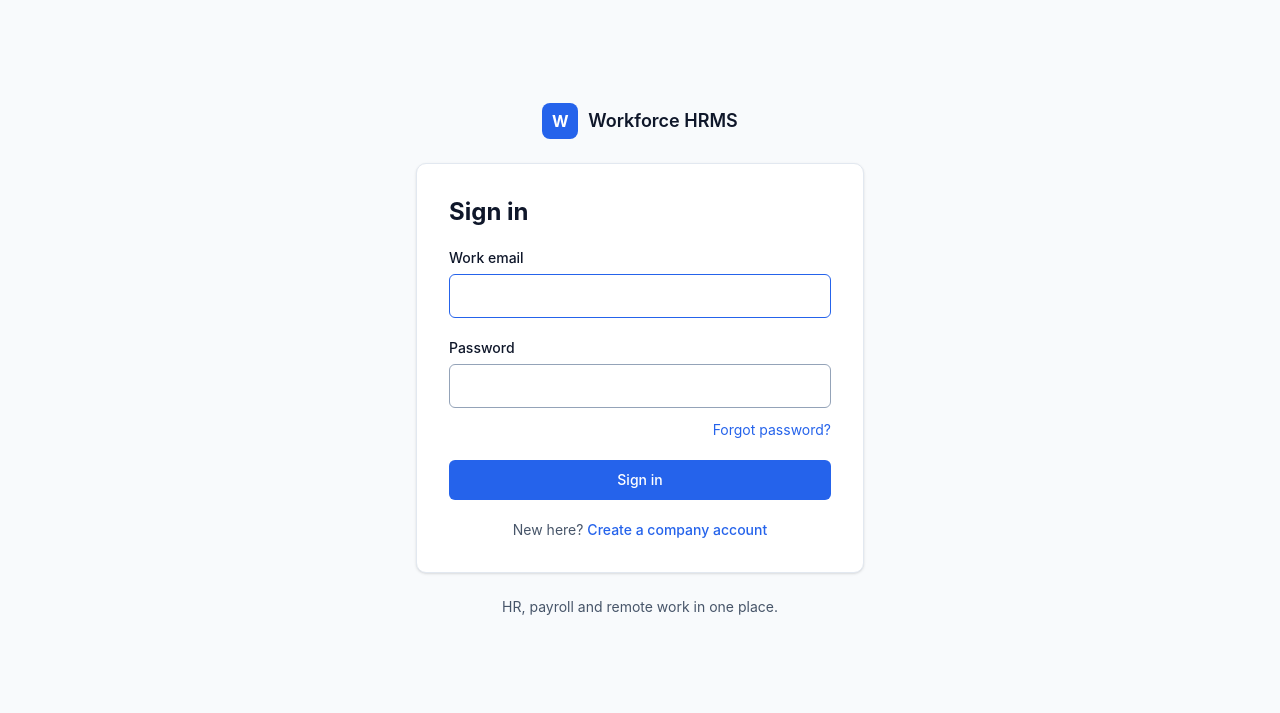
Test: MFA step, then the app with the MFA-required banner
In the field labelled "Work email": {"x": 640, "y": 296} x1=449 y1=274 x2=831 y2=318, type "priya@example.com"
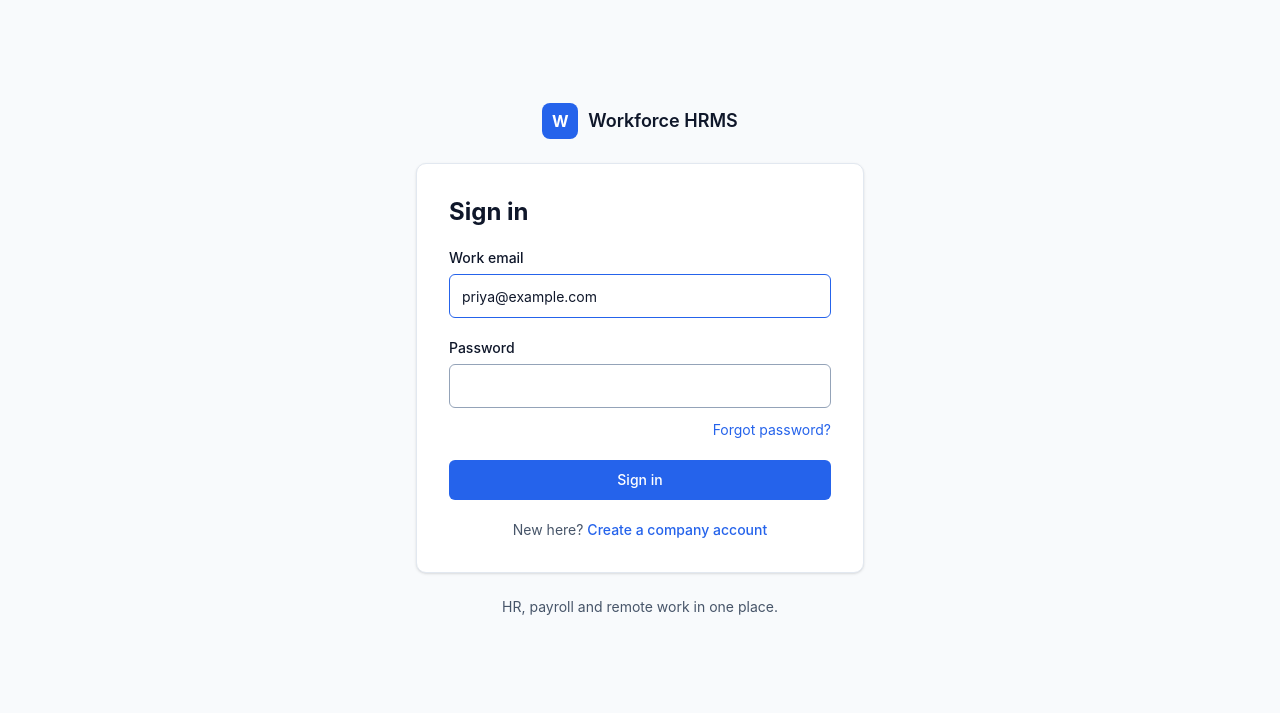
In the password field labelled "Password": {"x": 640, "y": 386} x1=449 y1=364 x2=831 y2=408, type "violet-tractor-91-lamp"
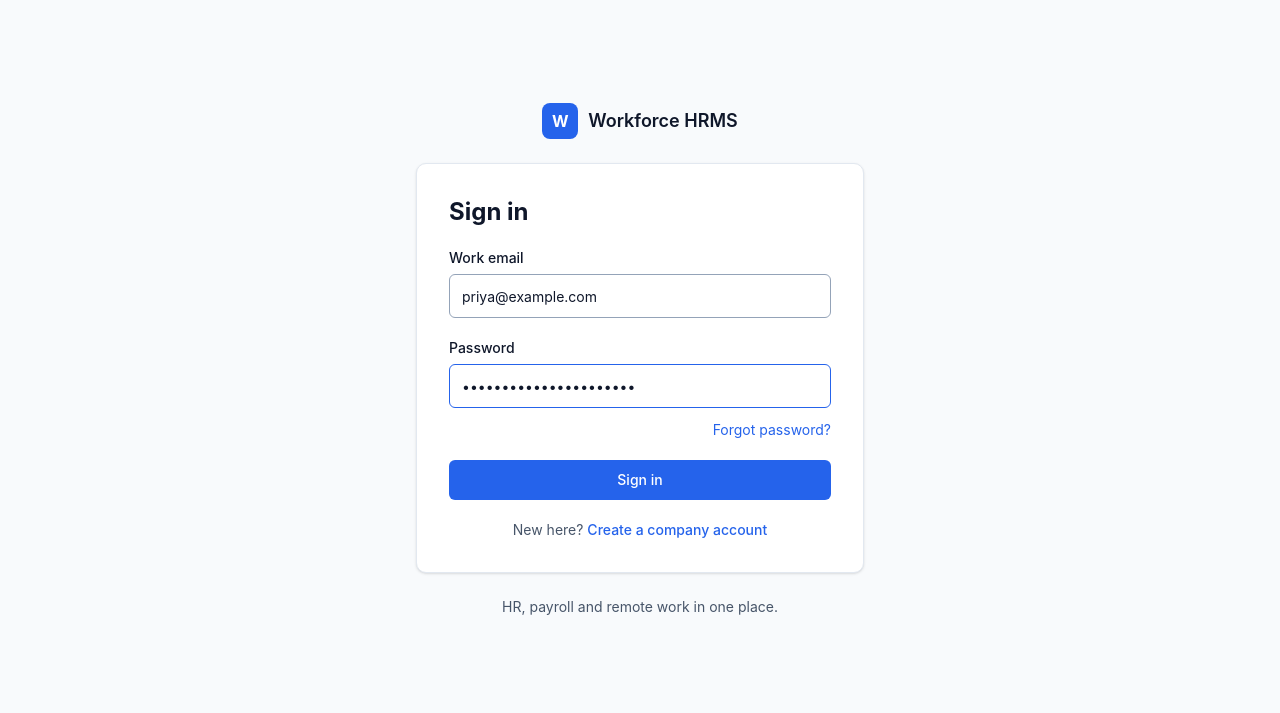
Click the button "Sign in": {"x": 640, "y": 480} x1=449 y1=460 x2=831 y2=500
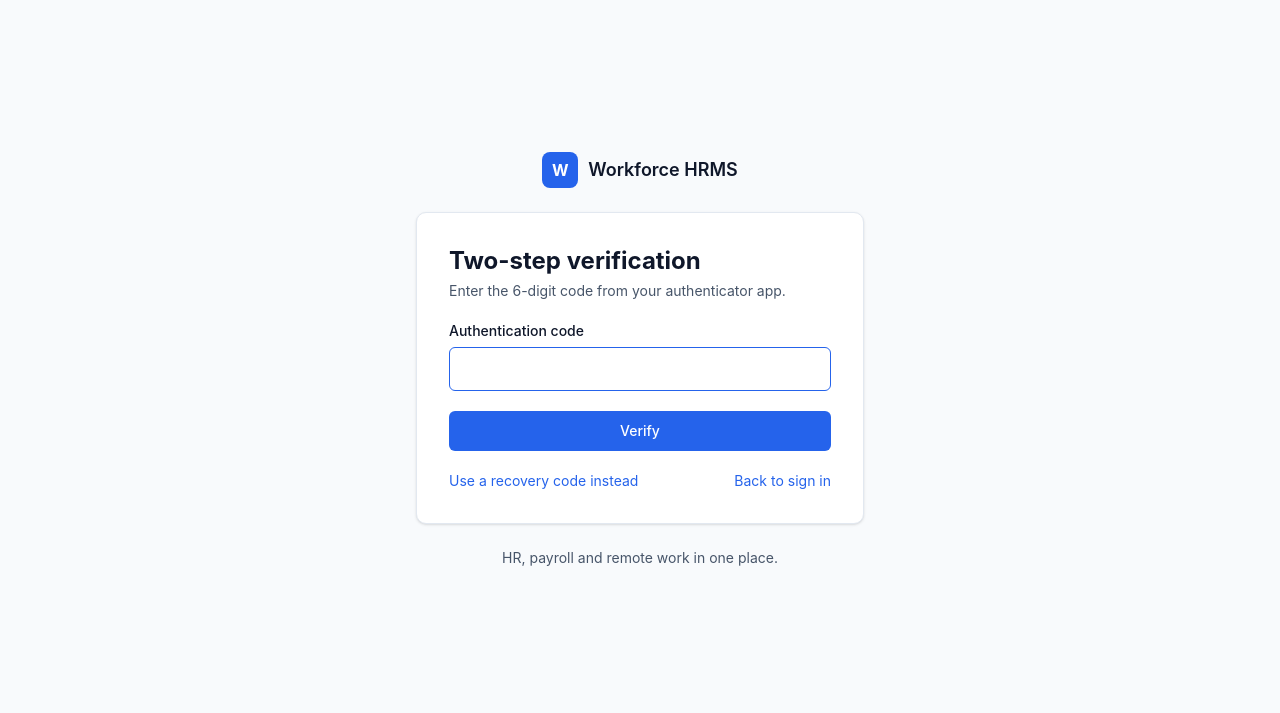
In the field labelled "Authentication code": {"x": 640, "y": 369} x1=449 y1=347 x2=831 y2=391, type "123 456"
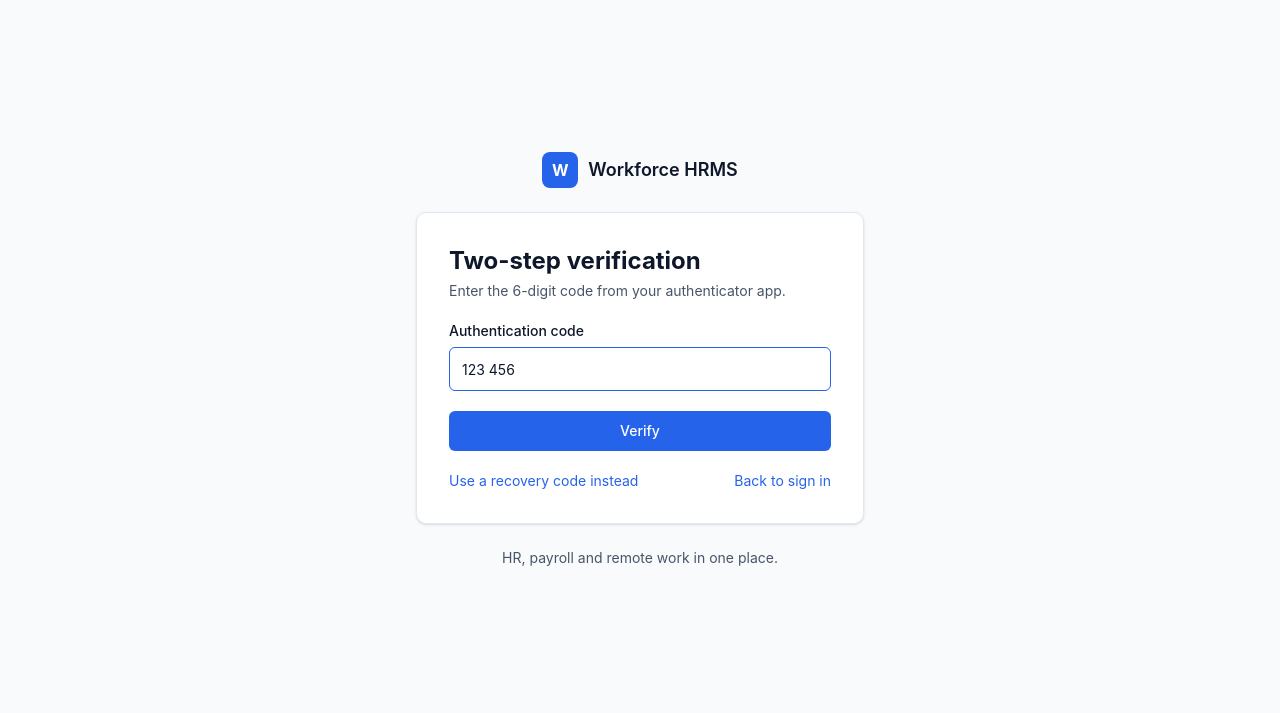
Click the button "Verify": {"x": 640, "y": 431} x1=449 y1=411 x2=831 y2=451
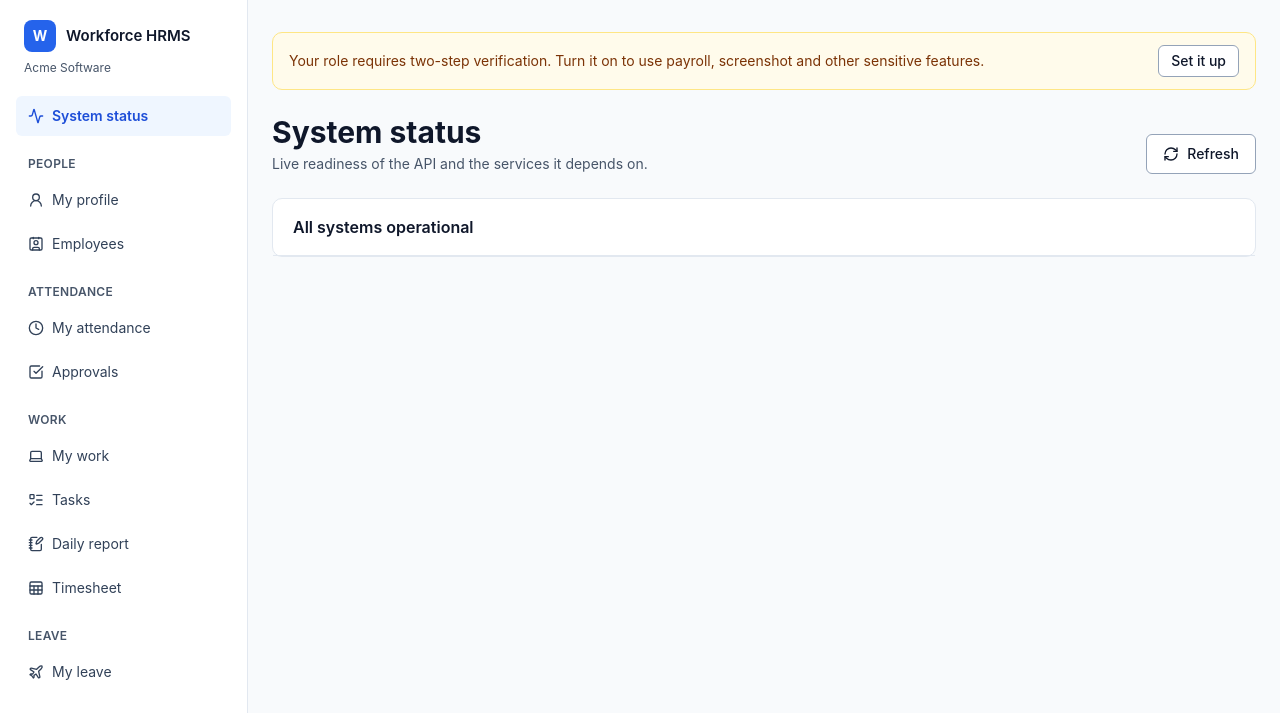
Now the text "Your role requires two-step verification" is shown, box x1=289 y1=52 x2=984 y2=69
Now the text "Acme Software" is shown, box x1=24 y1=60 x2=111 y2=75
